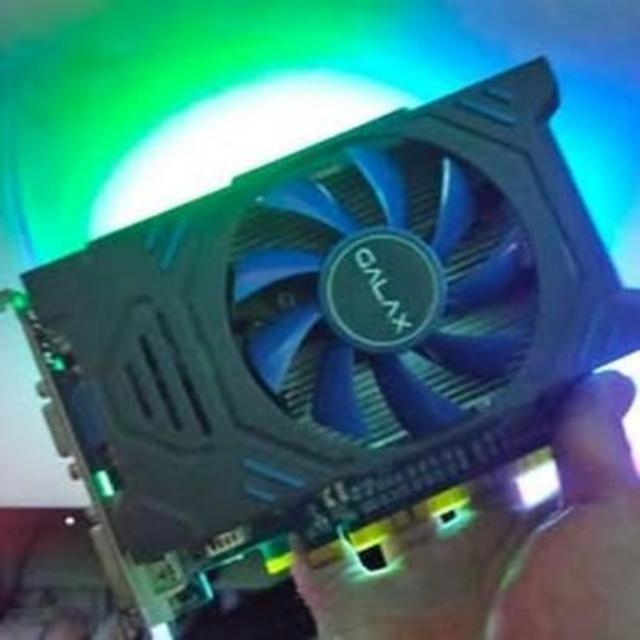GPU: (14, 58, 637, 640)
